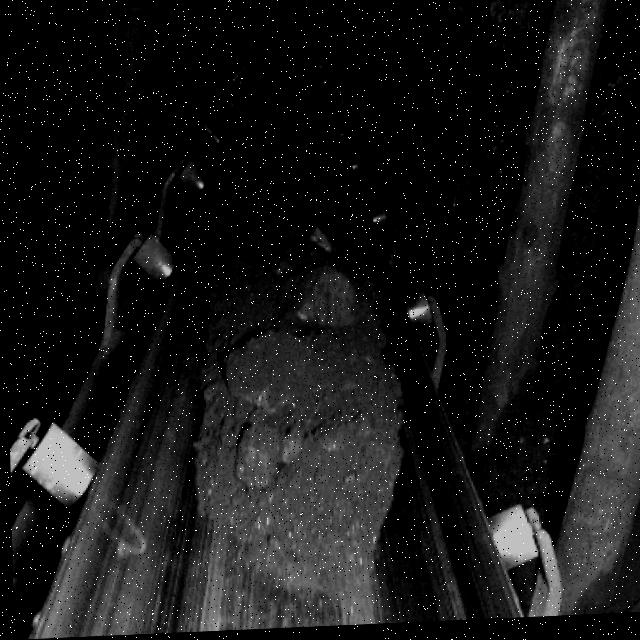large_sized_coal: (215, 333, 310, 412), (273, 270, 358, 329), (229, 430, 295, 489)
